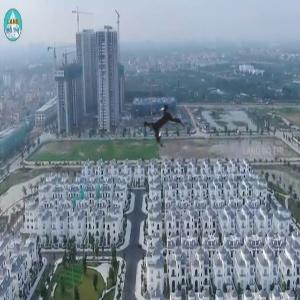drone: (124, 82, 207, 165)
